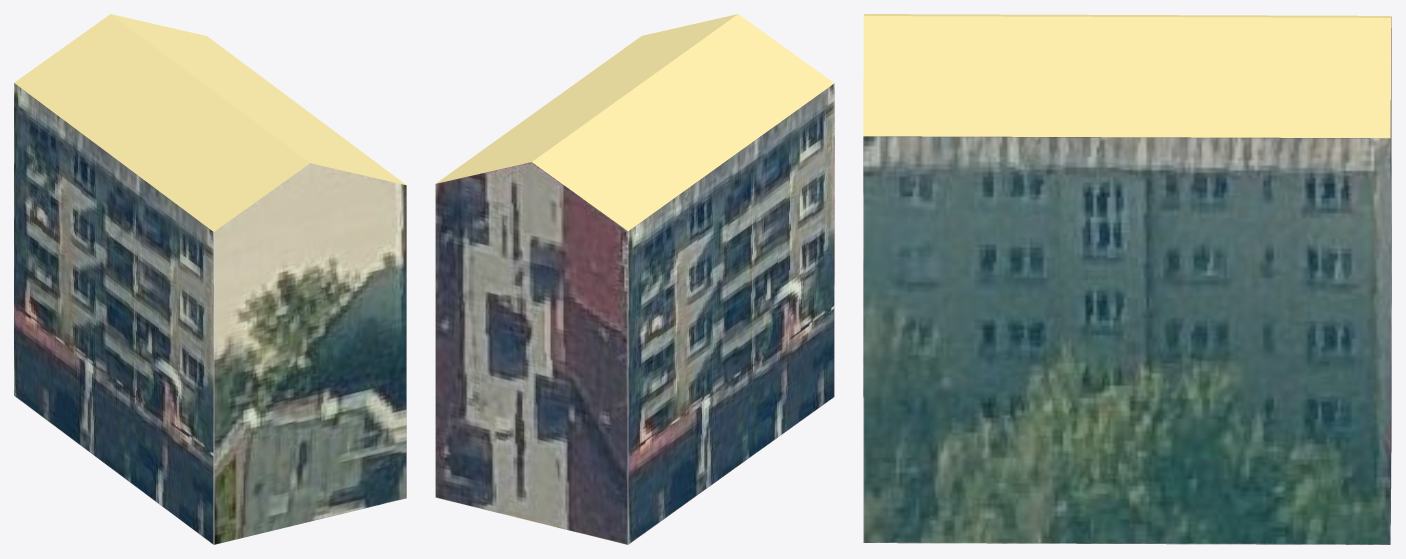
3 renders of one model, left to right at view 1: azimuth 30°, elevation 25°; view 2: azimuth 150°, elevation 25°; view 3: azimuth 270°, elevation 25°, orthographic. The views are drawn at different scales.
Size of the model in its own units: 10.64 by 18.61 by 19.14.
3 materials, 1 textured.
